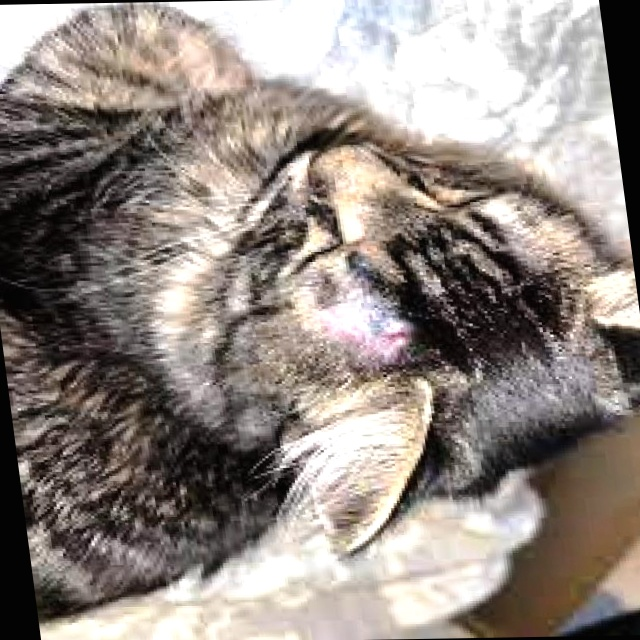ringworm: (285, 280, 427, 370)
